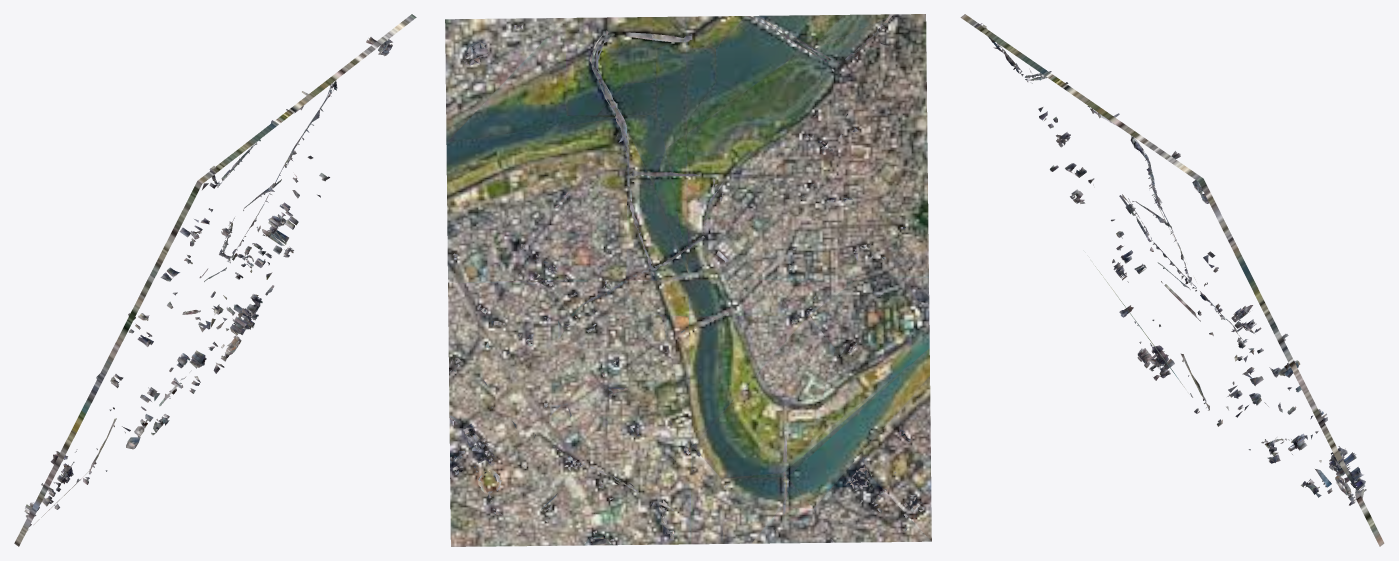
3 views of the same model, side by side, from view 1: azimuth 30°, elevation 25°; view 2: azimuth 150°, elevation 25°; view 3: azimuth 270°, elevation 25° (orthographic). The views are drawn at different scales.
Bounding box in the file's own units: 4895 × 4452 × 4126.
1 material, 1 textured.
